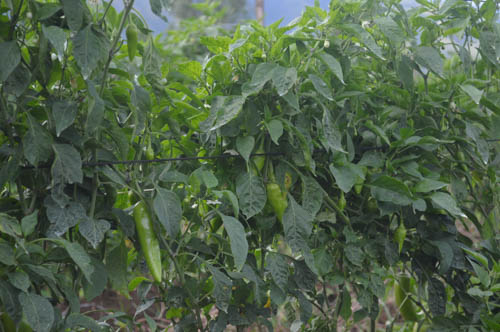ChiliPepper: (135, 203, 164, 283), (264, 183, 288, 218)
